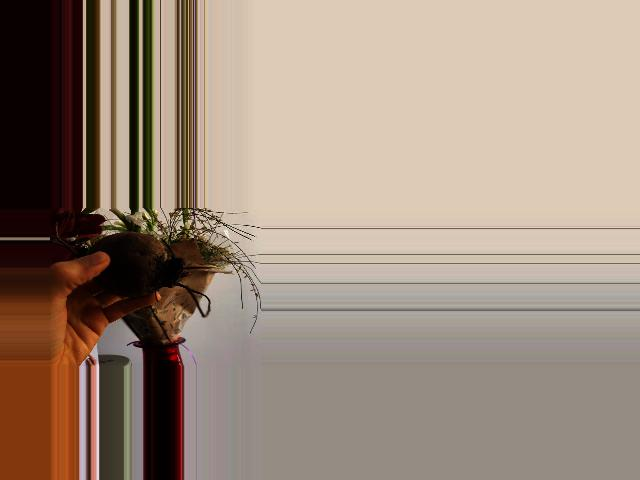beet: (55, 222, 211, 317)
